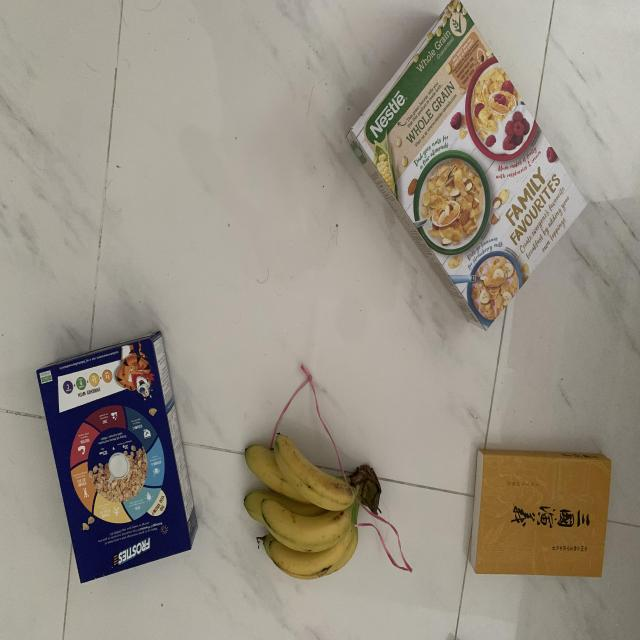Banana: (240, 430, 384, 586)
Book: (466, 446, 613, 587)
Cerealbox: (340, 0, 589, 335), (34, 328, 203, 588)
